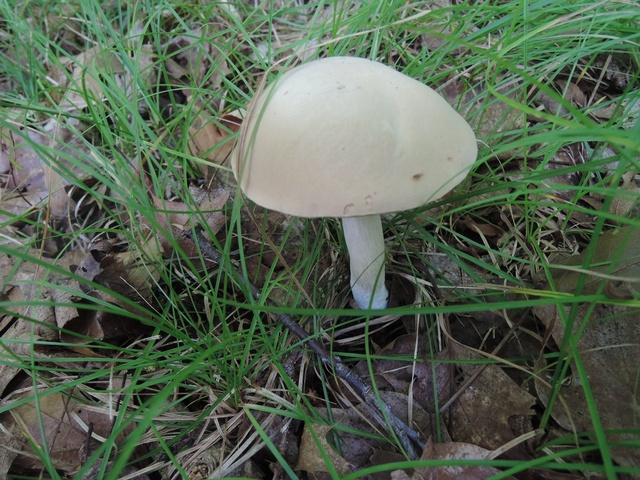edible_mushroom: (229, 54, 478, 312)
